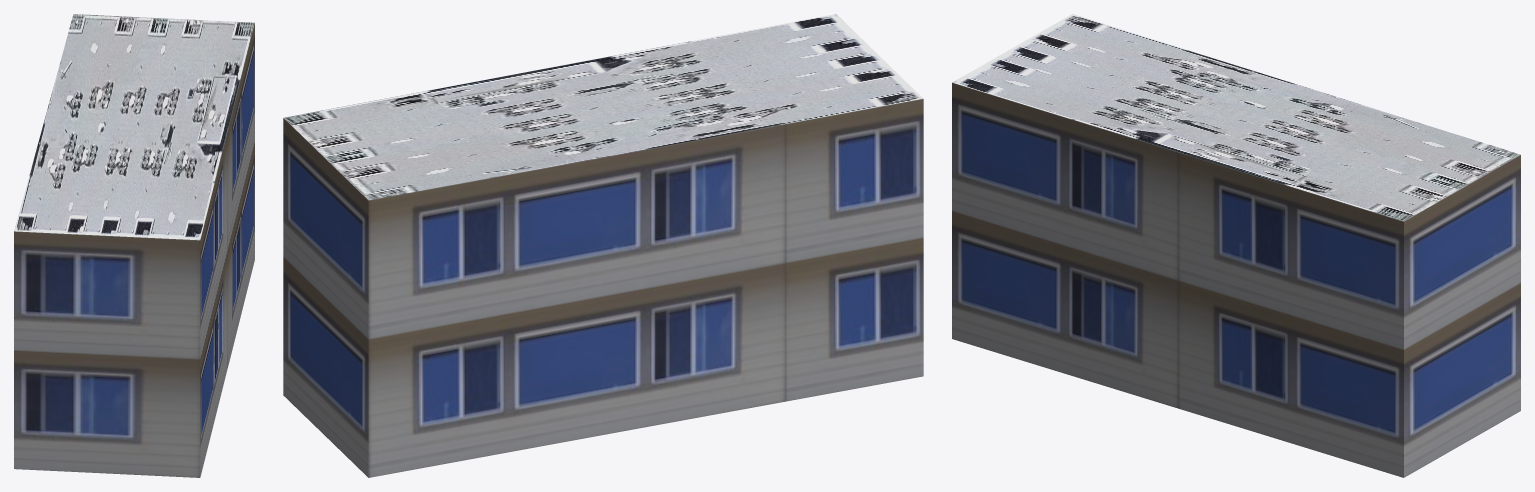
The model's file is ResTex__1374.fbx.
3 renders of one model, left to right at view 1: azimuth 30°, elevation 25°; view 2: azimuth 150°, elevation 25°; view 3: azimuth 270°, elevation 25°, orthographic. The views are drawn at different scales.
Visible parts, largest first — view 1: CityEngineMaterial_23_m, CityEngineMaterial_8_m; view 2: CityEngineMaterial_23_m, CityEngineMaterial_8_m; view 3: CityEngineMaterial_23_m, CityEngineMaterial_8_m.
Part boxes in pixels (x1,y1,x2,y2): CityEngineMaterial_23_m: (14,23,254,477); CityEngineMaterial_8_m: (14,14,254,240); CityEngineMaterial_23_m: (283,99,923,477); CityEngineMaterial_8_m: (283,14,923,200); CityEngineMaterial_23_m: (952,82,1520,477); CityEngineMaterial_8_m: (952,14,1520,221).
Bounding box in the file's own units: 10.42 × 6 × 12.06.
Materials: 2 (2 with a texture image).
